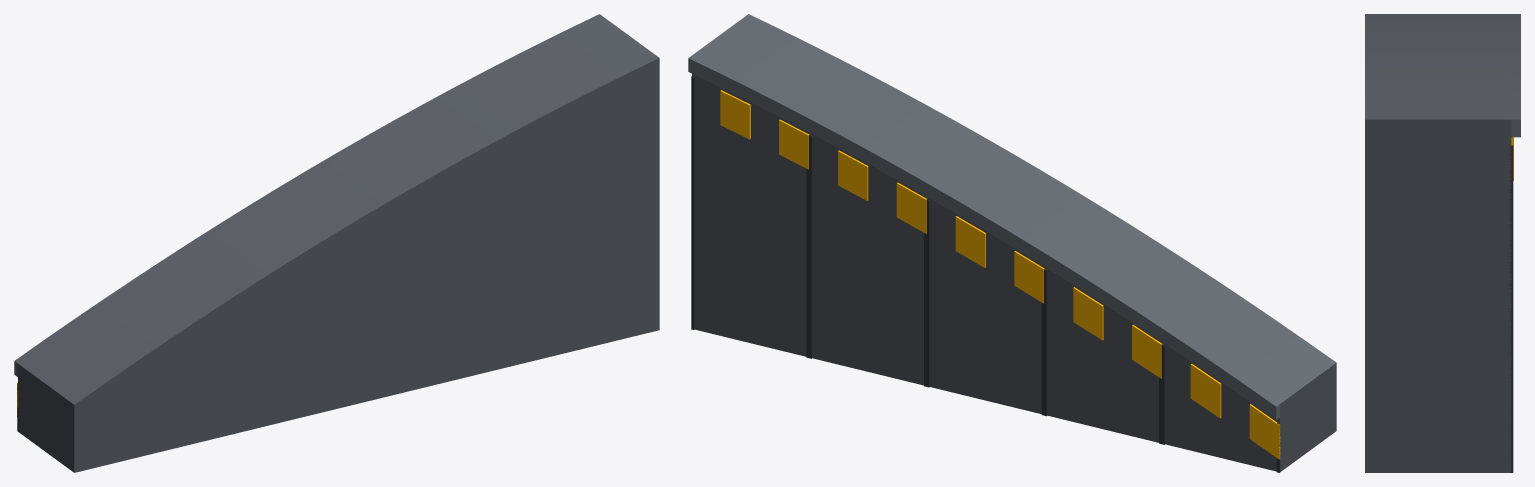
3 views of the same model, side by side, from view 1: azimuth 30°, elevation 25°; view 2: azimuth 150°, elevation 25°; view 3: azimuth 270°, elevation 25° (orthographic). The views are drawn at different scales.
Parts seen in each view (by area): view 1: e12w; view 2: e12w; view 3: e12w.
Part boxes in pixels (x1,y1,x2,y2): e12w: [14, 14, 659, 472]; e12w: [688, 14, 1336, 472]; e12w: [1365, 14, 1520, 472].
Size of the model in its own units: 9 by 4 by 1.6.
